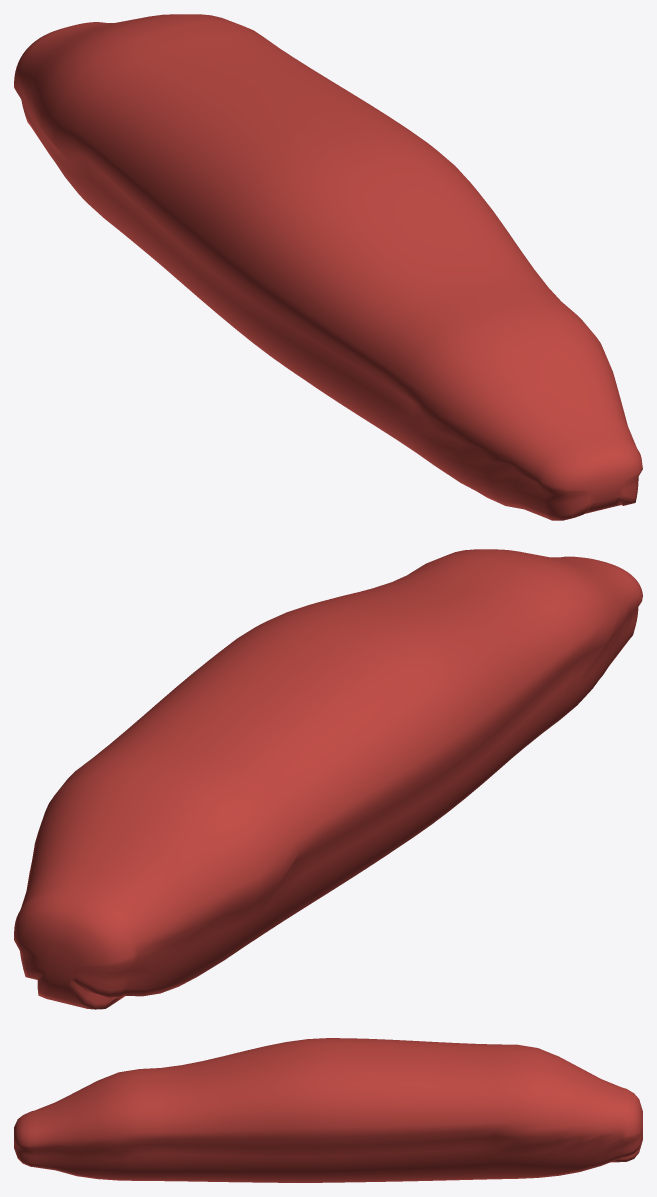
The model's file is enduro.glb.
The picture shows the model from 3 angles, top to bottom: view 1: azimuth 30°, elevation 25°; view 2: azimuth 150°, elevation 25°; view 3: azimuth 270°, elevation 25°; orthographic projection. The views are drawn at different scales.
Parts seen in each view (by area): view 1: lod0; view 2: lod0; view 3: lod0.
Part boxes in pixels (bbox=[...]): lod0: bbox=[14, 14, 642, 520]; lod0: bbox=[14, 549, 642, 1009]; lod0: bbox=[14, 1038, 642, 1182].
Size of what is drawn, in the model's own units: 0.2597 by 0.2081 by 1.
